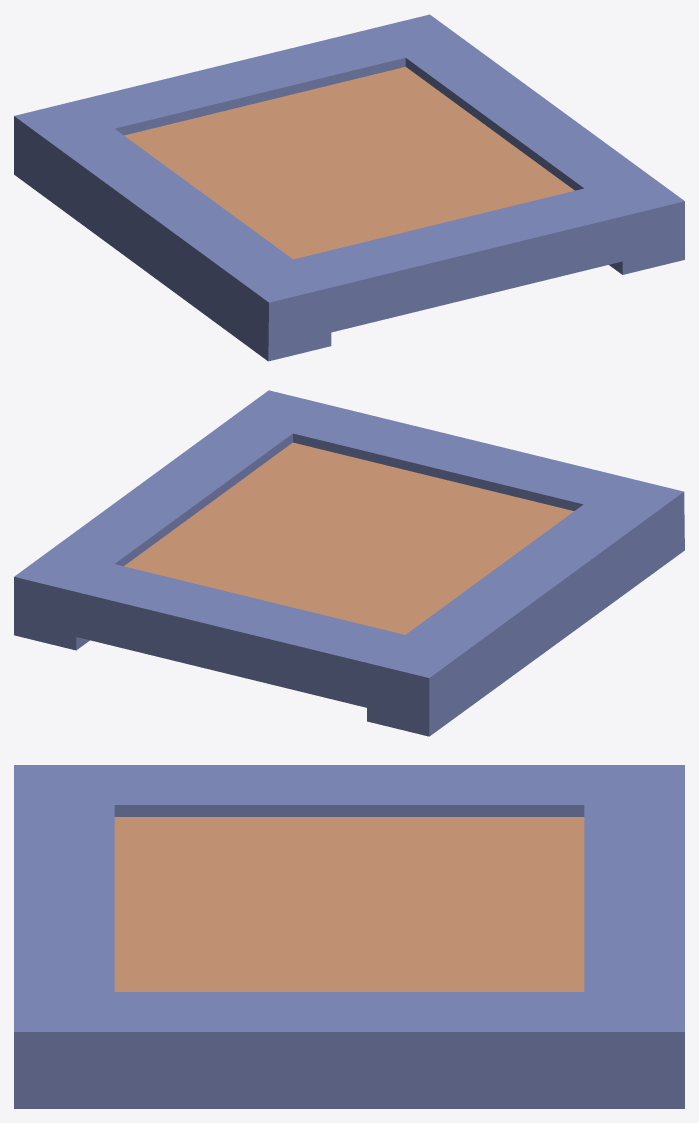
The model's file is bridge_2_part_3.fbx.
The picture shows the model from 3 angles, top to bottom: view 1: azimuth 30°, elevation 25°; view 2: azimuth 150°, elevation 25°; view 3: azimuth 270°, elevation 25°; orthographic projection. The views are drawn at different scales.
Visible parts, largest first — view 1: bridge_2_part_3; view 2: bridge_2_part_3; view 3: bridge_2_part_3.
Boxes of the visible parts, box(x1,y1,x2,y2) form: bridge_2_part_3: box(14, 14, 684, 361); bridge_2_part_3: box(14, 390, 684, 736); bridge_2_part_3: box(14, 765, 684, 1108).
Size of the model in its own units: 9.62 by 1.29 by 10.2.
